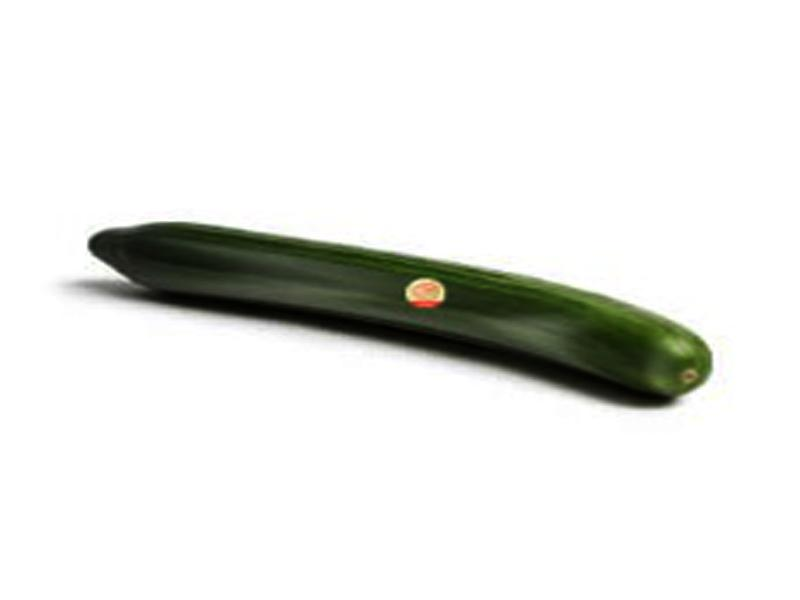Cucumber: (88, 222, 715, 396)
